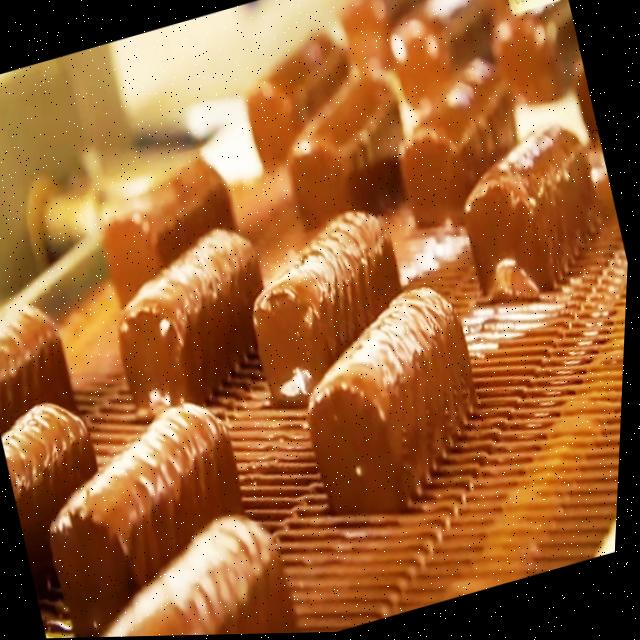Choco: (22, 387, 276, 639), (277, 272, 511, 534), (227, 196, 431, 416), (92, 214, 293, 424), (441, 112, 623, 317), (50, 500, 316, 639), (378, 47, 552, 233), (263, 63, 433, 238), (82, 146, 256, 308), (0, 383, 128, 581), (227, 19, 375, 174), (378, 0, 516, 117), (0, 291, 87, 434)
